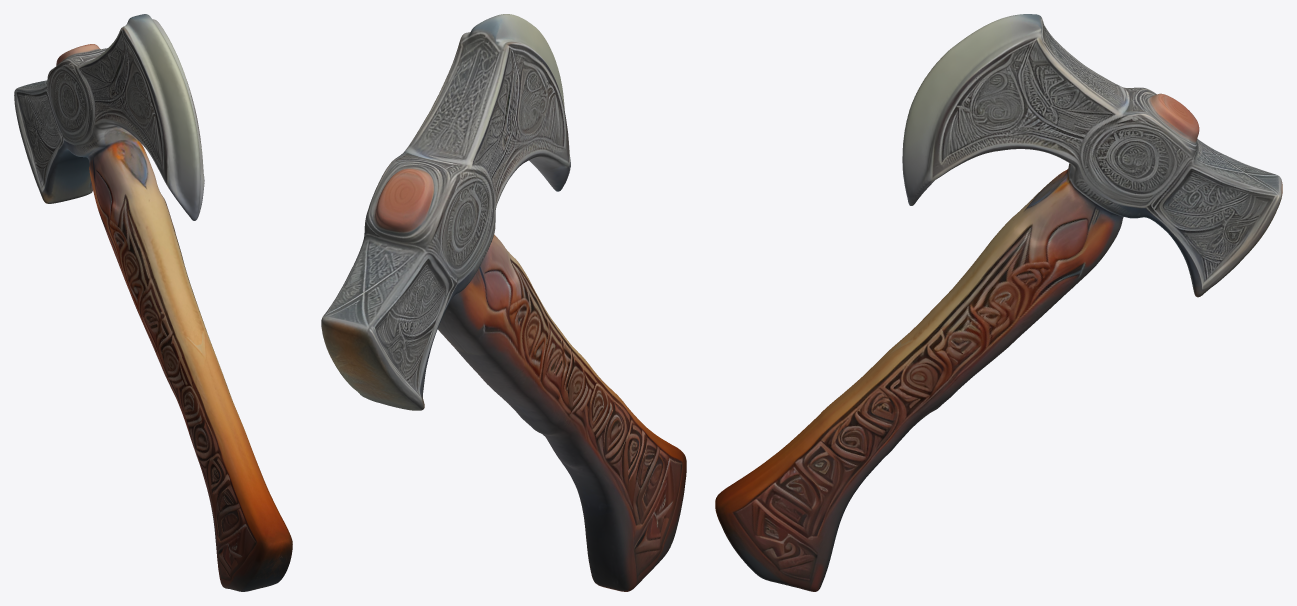
Rendered from tripo_pbr_model_7b2e60bf-ffa5-4cee-bf59-089e230278ad.glb.
3 renders of one model, left to right at view 1: azimuth 30°, elevation 25°; view 2: azimuth 150°, elevation 25°; view 3: azimuth 270°, elevation 25°, orthographic. The views are drawn at different scales.
Parts seen in each view (by area): view 1: tripo_node_7b2e60bf-ffa5-4cee-bf59-089e230278ad; view 2: tripo_node_7b2e60bf-ffa5-4cee-bf59-089e230278ad; view 3: tripo_node_7b2e60bf-ffa5-4cee-bf59-089e230278ad.
Part boxes in pixels (bbox=[...]): tripo_node_7b2e60bf-ffa5-4cee-bf59-089e230278ad: bbox=[14, 14, 292, 591]; tripo_node_7b2e60bf-ffa5-4cee-bf59-089e230278ad: bbox=[321, 14, 686, 591]; tripo_node_7b2e60bf-ffa5-4cee-bf59-089e230278ad: bbox=[715, 14, 1282, 591].
Size of the model in its own units: 0.1118 by 0.9485 by 0.8552.
Materials: 1 (1 with a texture image).
